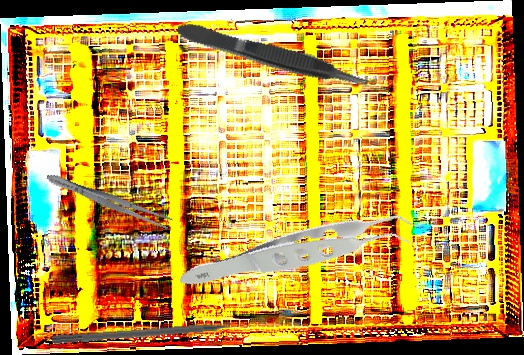Dressing Forceps: (44, 169, 174, 232)
Pusher: (51, 320, 255, 347)
Tissue Forceps: (178, 156, 435, 355), (174, 14, 377, 98)
